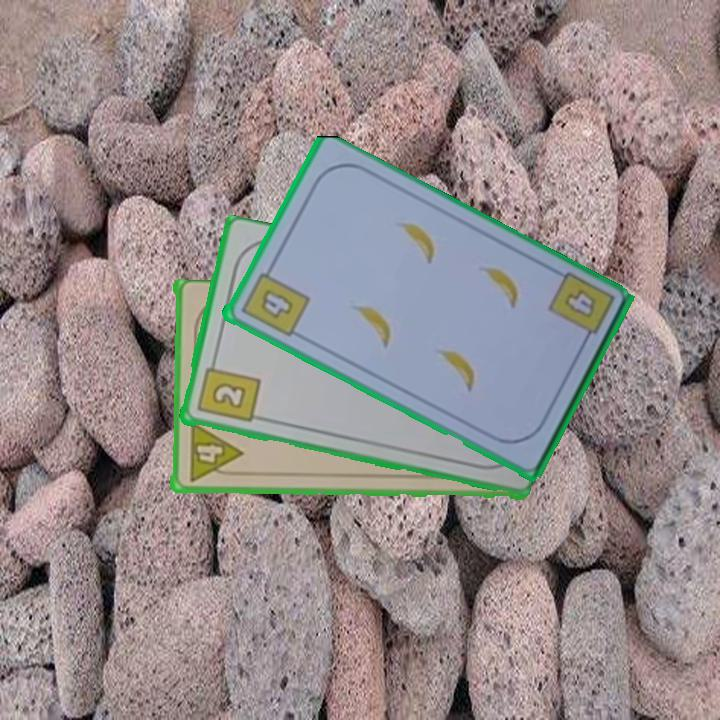2b: (193, 355, 262, 426)
4b: (236, 261, 312, 340), (560, 286, 598, 322)
4p: (185, 420, 243, 486)
